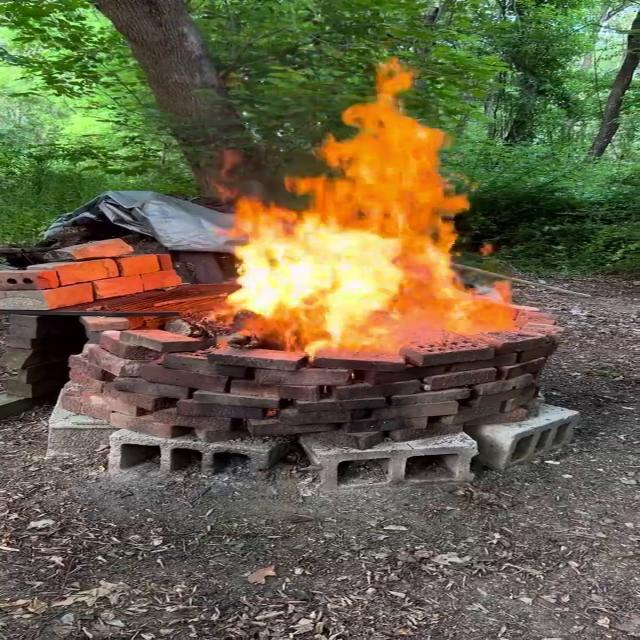Fire: (202, 58, 525, 356)
